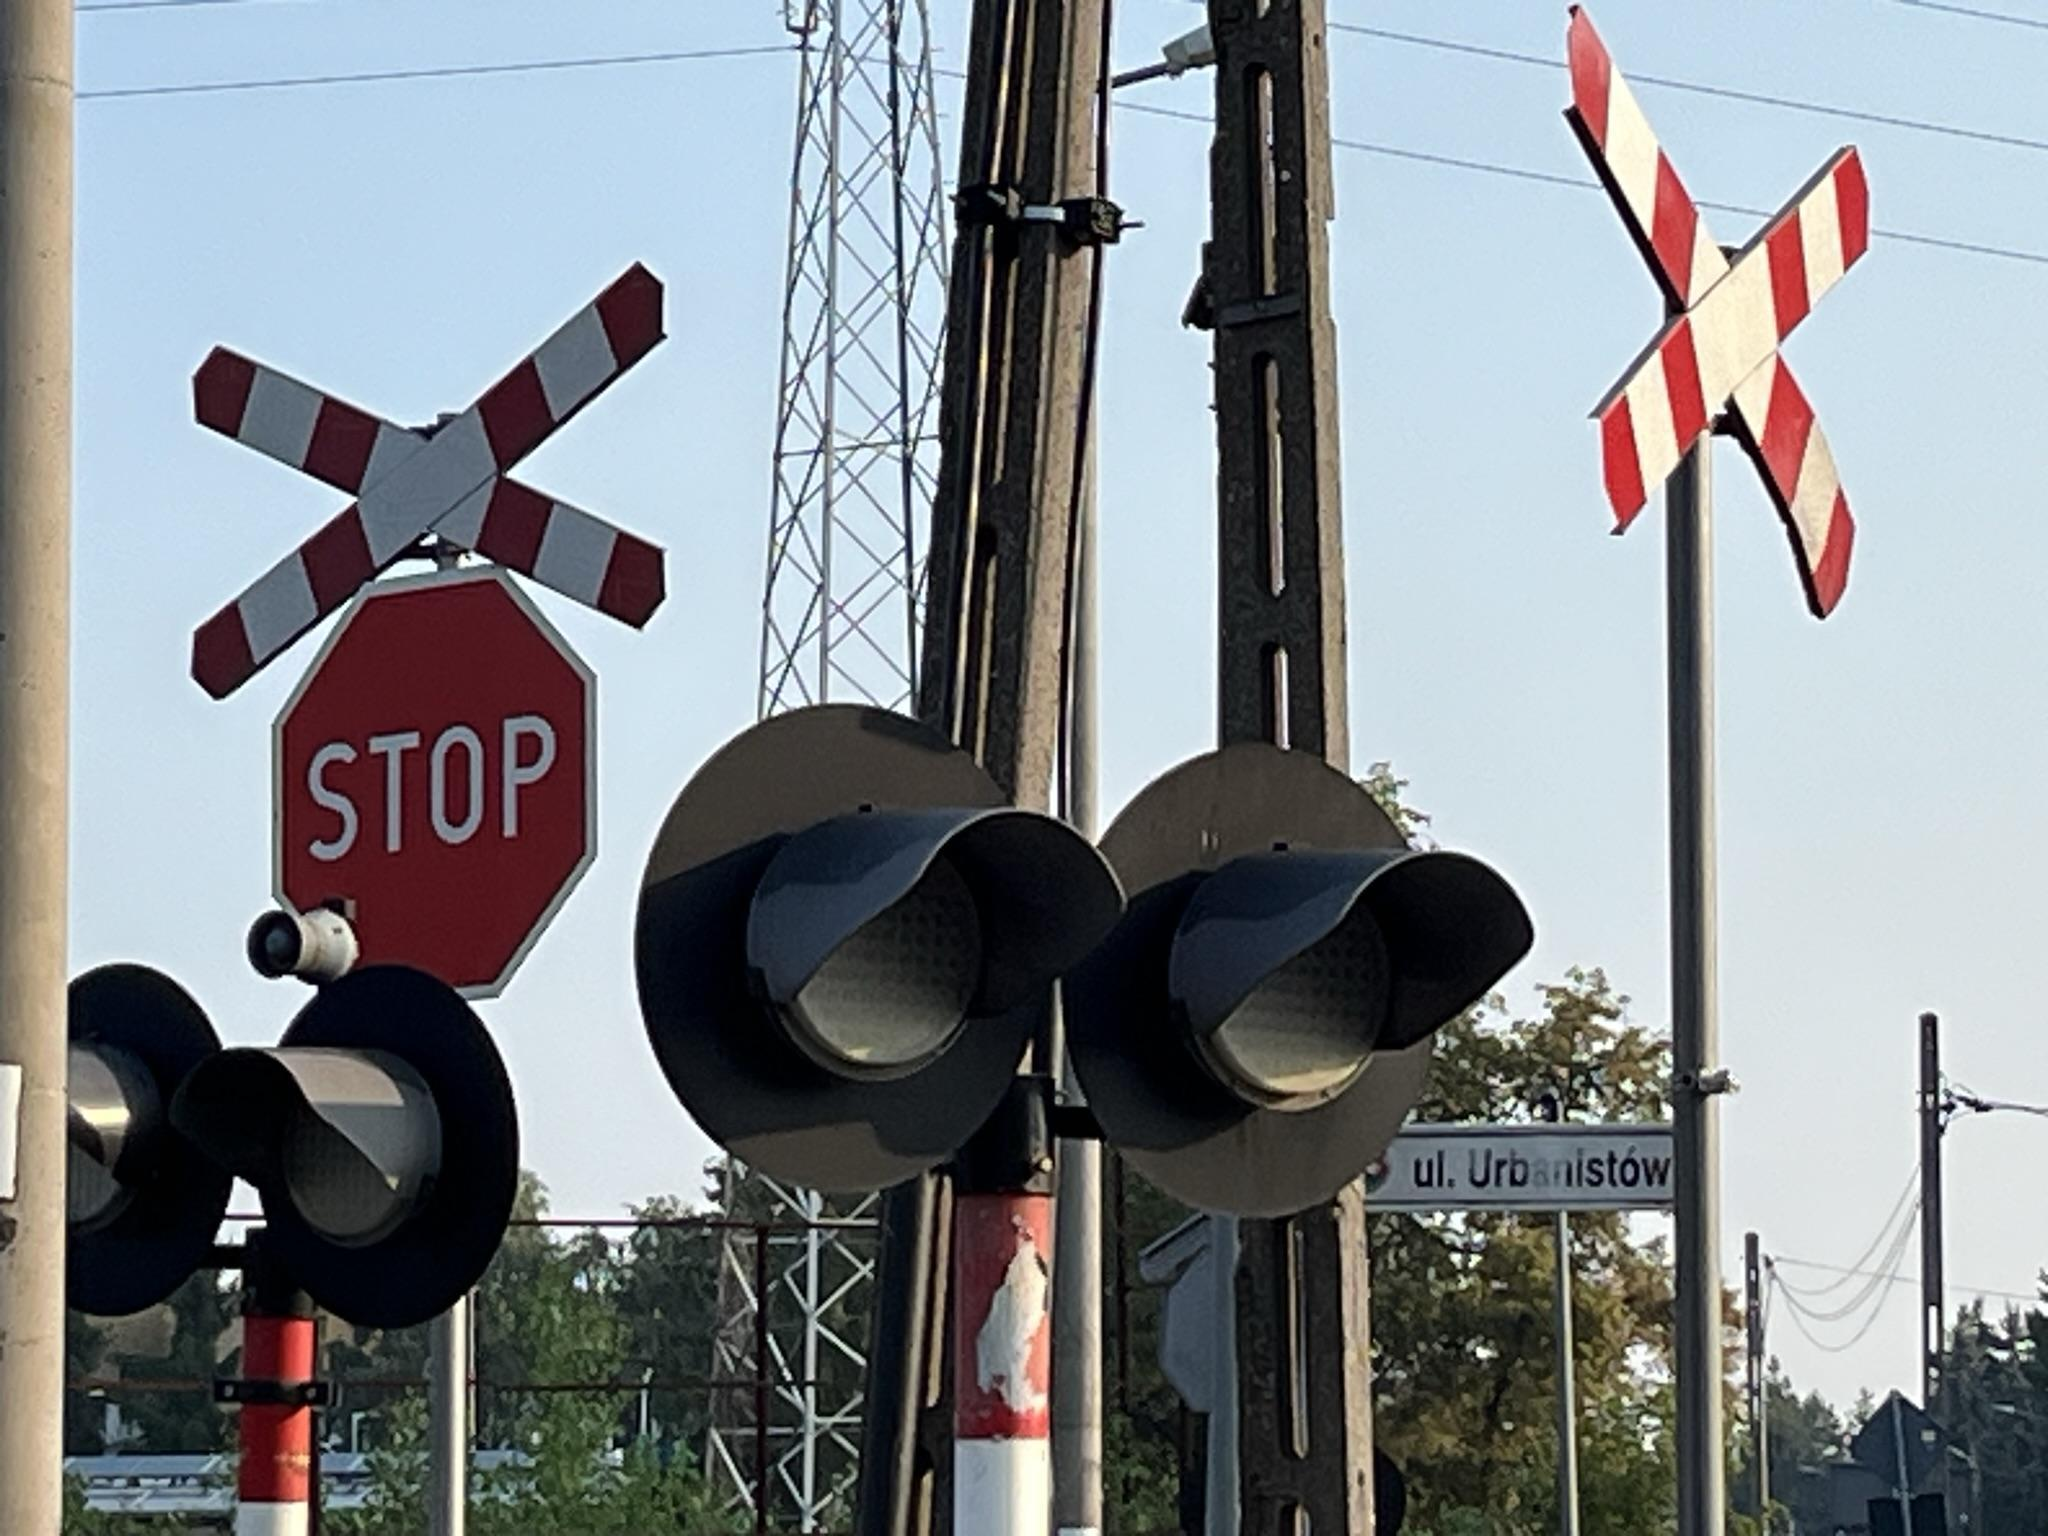prohibitory: (273, 561, 600, 1002)
